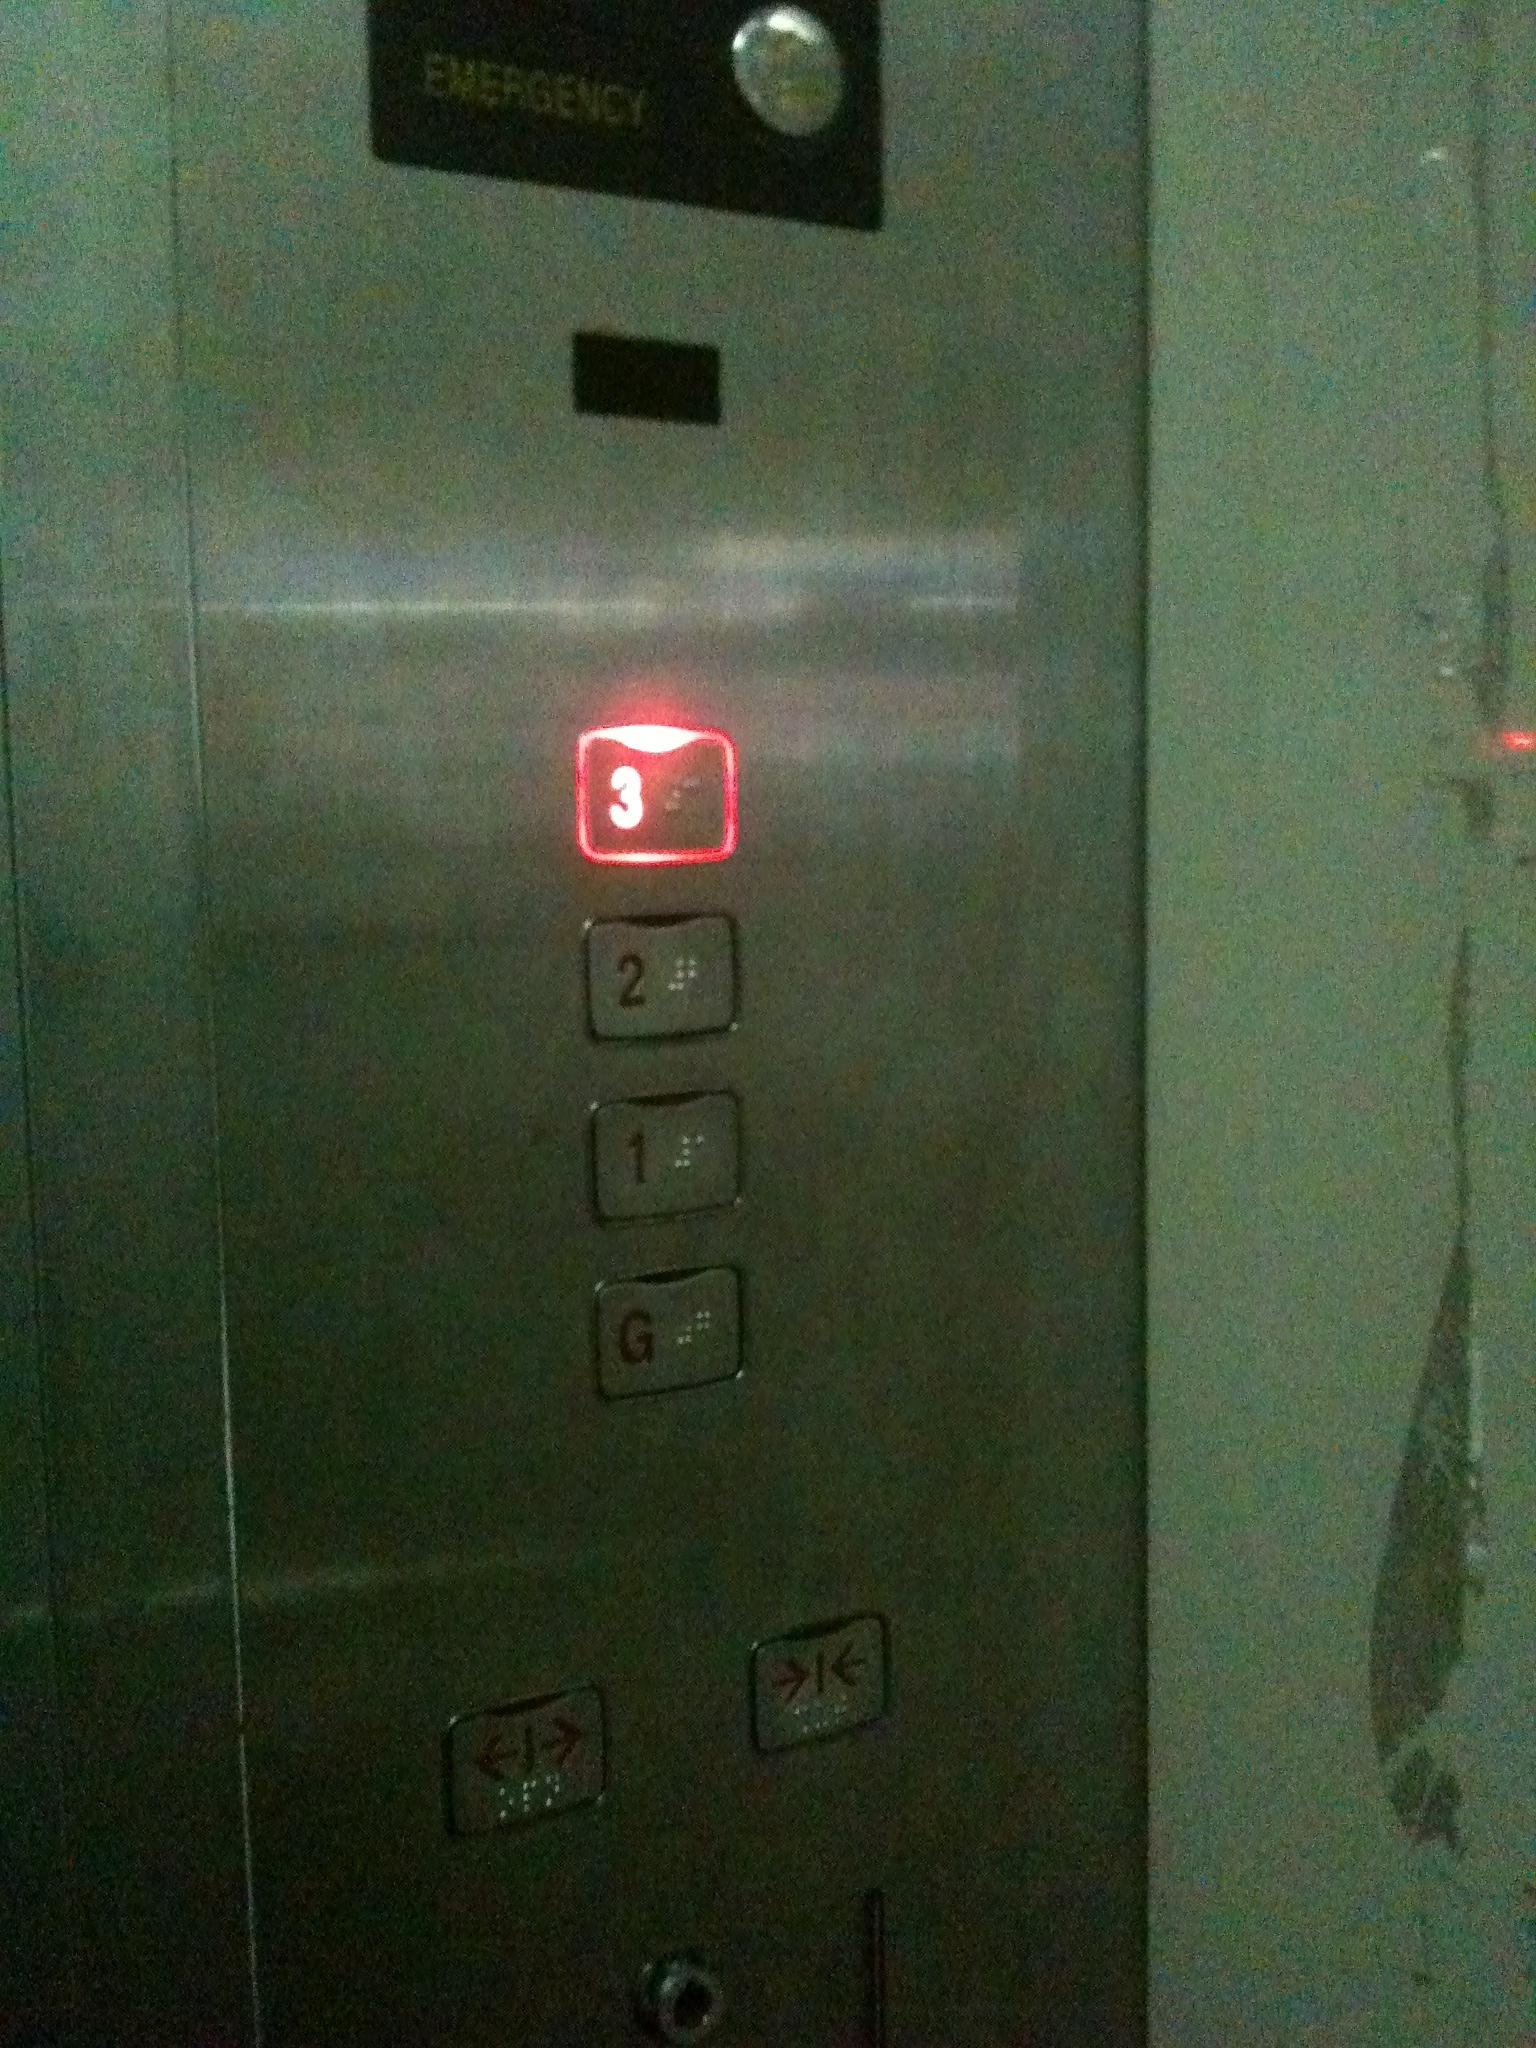1: (582, 1076, 757, 1226)
2: (574, 898, 749, 1050)
3: (566, 718, 750, 874)
G: (579, 1255, 753, 1406)
close: (744, 1596, 892, 1764)
keyhole: (613, 1930, 762, 2048)
open: (439, 1674, 613, 1850)
